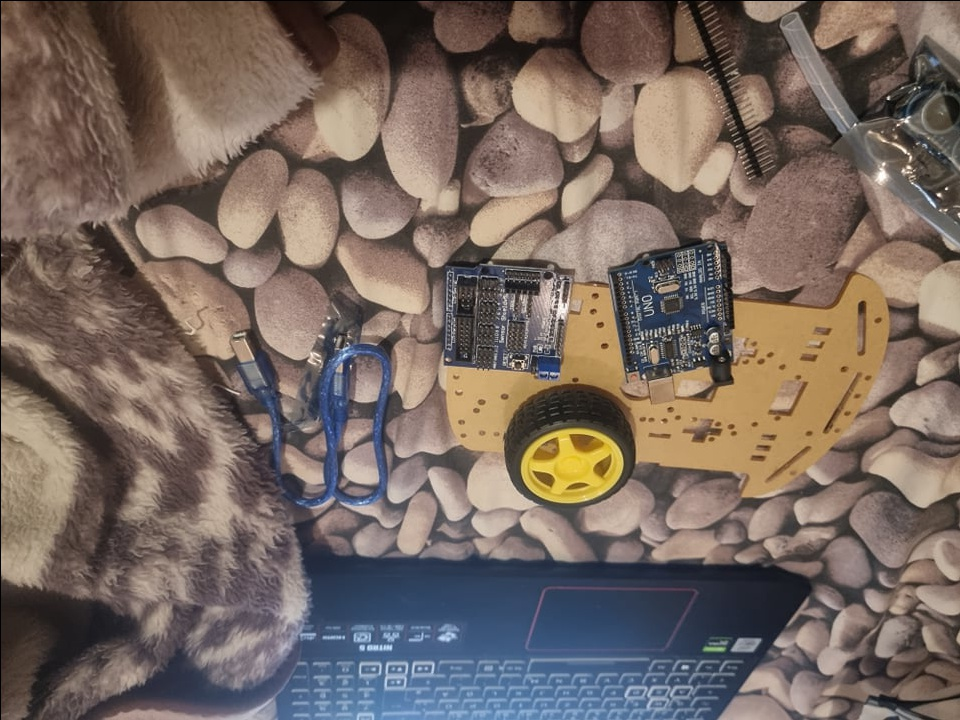5V EXPANSION: (441, 262, 573, 378)
SENSOR: (900, 72, 959, 168)
UNO R3: (608, 236, 734, 404)
